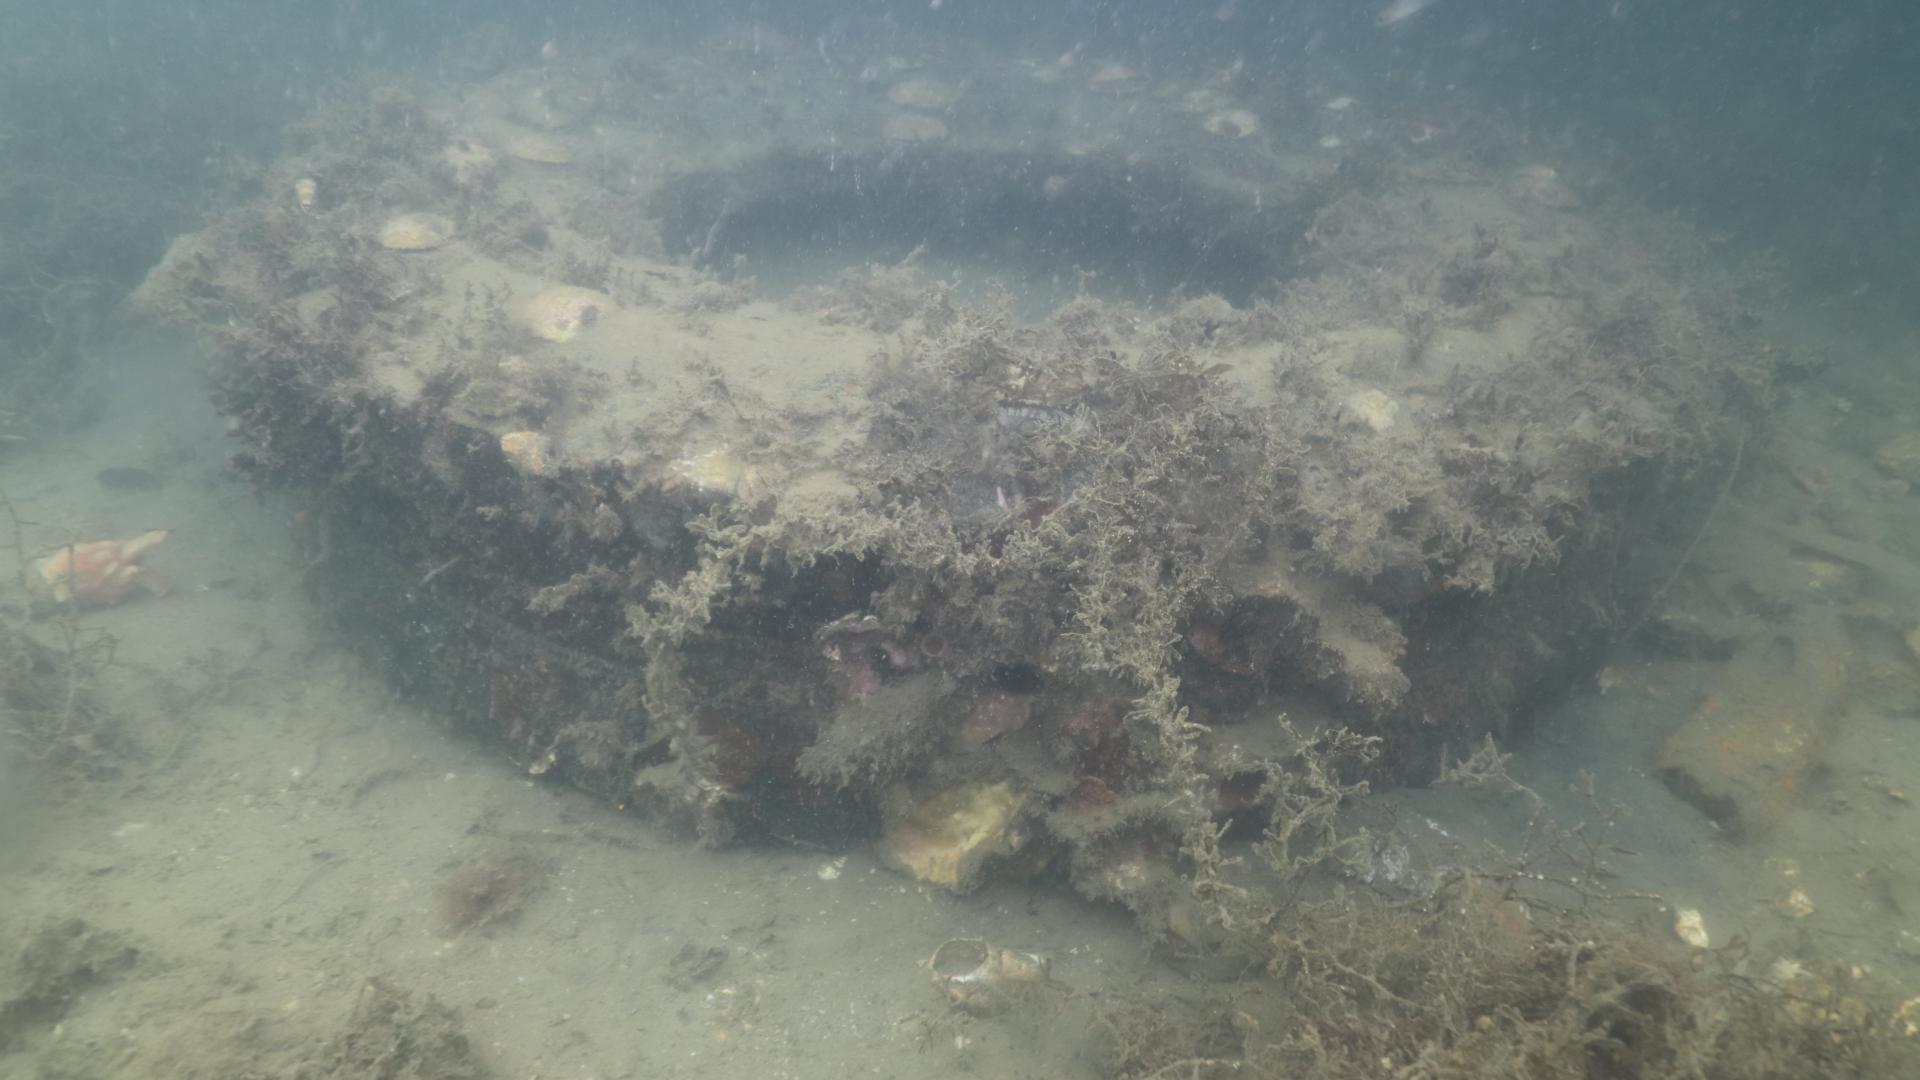tire: (282, 30, 1643, 847)
